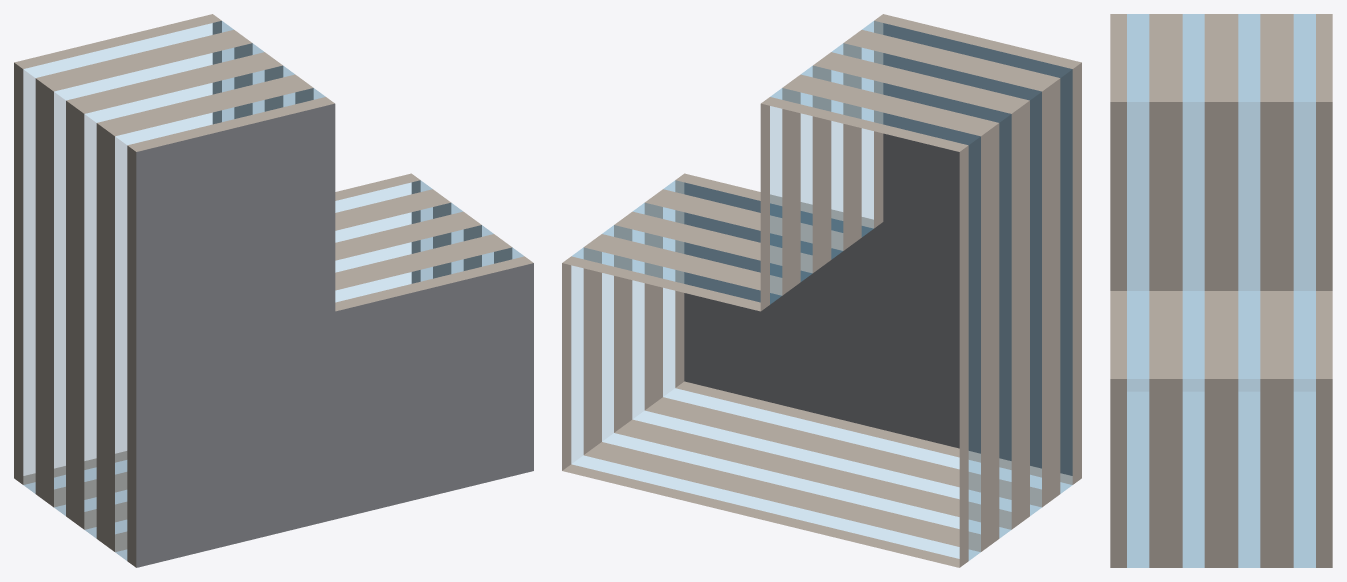
3 views of the same model, side by side, from view 1: azimuth 30°, elevation 25°; view 2: azimuth 150°, elevation 25°; view 3: azimuth 270°, elevation 25° (orthographic). The views are drawn at different scales.
Parts seen in each view (by area): view 1: Atap_Beton, Dinding_Bata, Kaca_Jendela; view 2: Dinding_Bata, Atap_Beton, Kaca_Jendela; view 3: Dinding_Bata, Kaca_Jendela.
Boxes of the visible parts, x1,y1,x2,y2 form: Atap_Beton: (136, 103, 533, 567); Dinding_Bata: (14, 14, 533, 567); Kaca_Jendela: (23, 21, 523, 560); Dinding_Bata: (562, 14, 1081, 567); Atap_Beton: (684, 23, 1072, 475); Kaca_Jendela: (571, 21, 1072, 560); Dinding_Bata: (1110, 14, 1332, 567); Kaca_Jendela: (1127, 14, 1315, 567).
Size of the model in its own units: 30 by 30 by 16.
